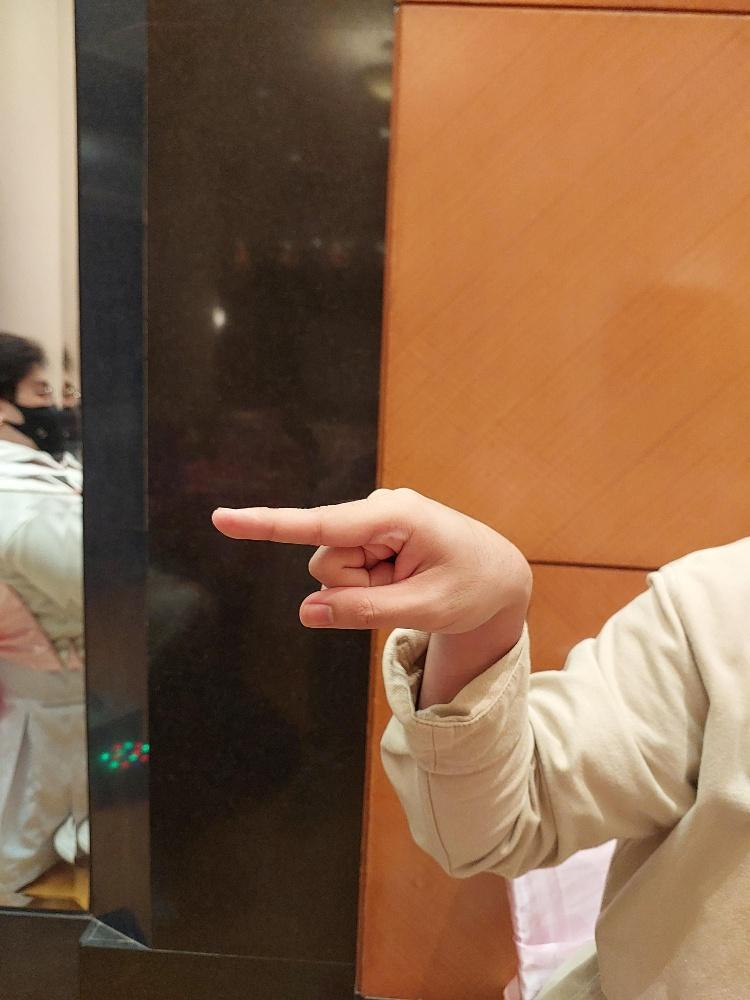z: (204, 480, 523, 638)
